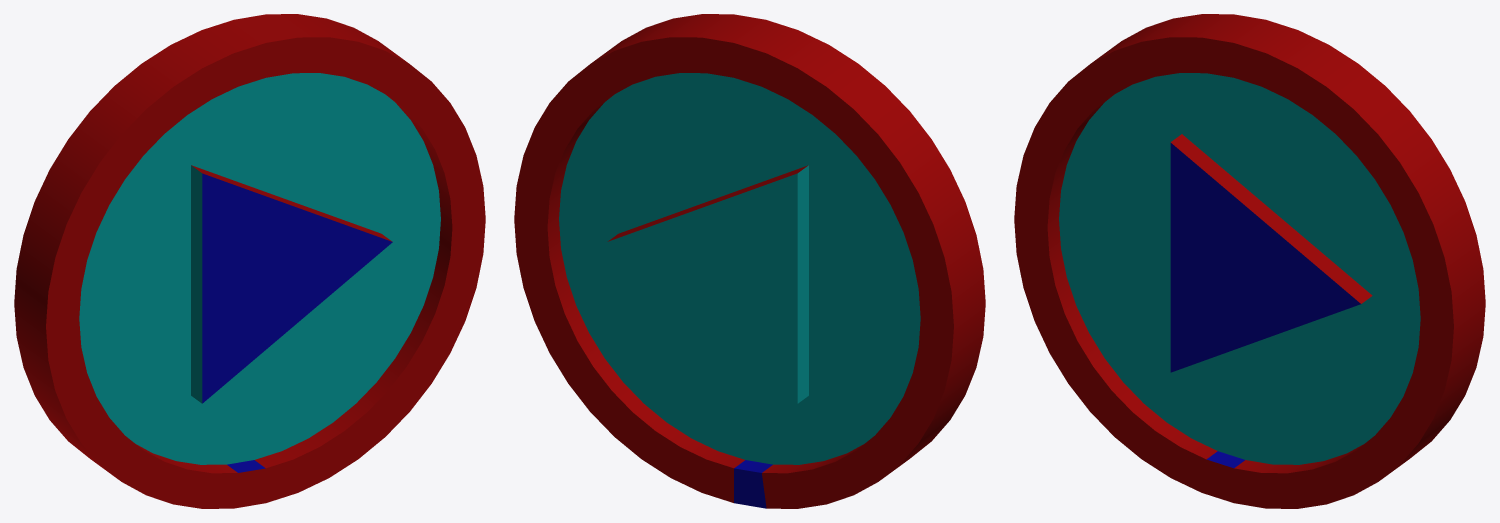
File: Play_button_V02.FBX
The picture shows the model from 3 angles, left to right: view 1: azimuth 30°, elevation 25°; view 2: azimuth 150°, elevation 25°; view 3: azimuth 330°, elevation 25°; orthographic projection.
Visible parts, largest first — view 1: play button V02; view 2: play button V02; view 3: play button V02.
Part boxes in pixels (bbox=[...]): play button V02: bbox=[14, 14, 485, 508]; play button V02: bbox=[514, 14, 985, 508]; play button V02: bbox=[1014, 14, 1485, 508].
Bounding box in the file's own units: 40 × 40 × 5.
